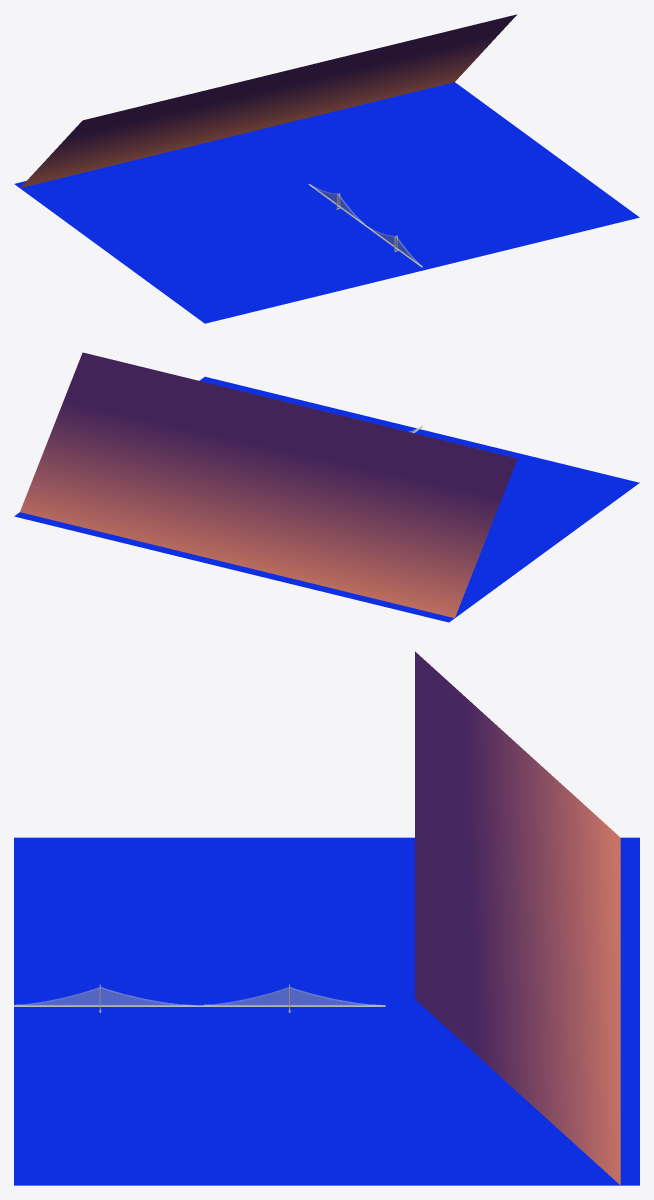
Rendered from asset.glb.
3 renders of one model, top to bottom at view 1: azimuth 30°, elevation 25°; view 2: azimuth 150°, elevation 25°; view 3: azimuth 270°, elevation 25°, orthographic. The views are drawn at different scales.
Visible parts, largest first — view 1: umi, sora, turibasi; view 2: sora, umi; view 3: umi, sora, turibasi, michi.
Part boxes in pixels (x1,y1,x2,y2): umi: [14, 82, 639, 323]; sora: [20, 14, 516, 187]; turibasi: [309, 184, 422, 266]; sora: [20, 352, 517, 618]; umi: [14, 376, 639, 622]; umi: [14, 837, 639, 1185]; sora: [415, 651, 620, 1185]; turibasi: [14, 986, 385, 1006]; michi: [14, 1005, 385, 1006].
Size of the model in its own units: 0.8 by 0.2 by 0.6082.
4 materials, 2 textured.
